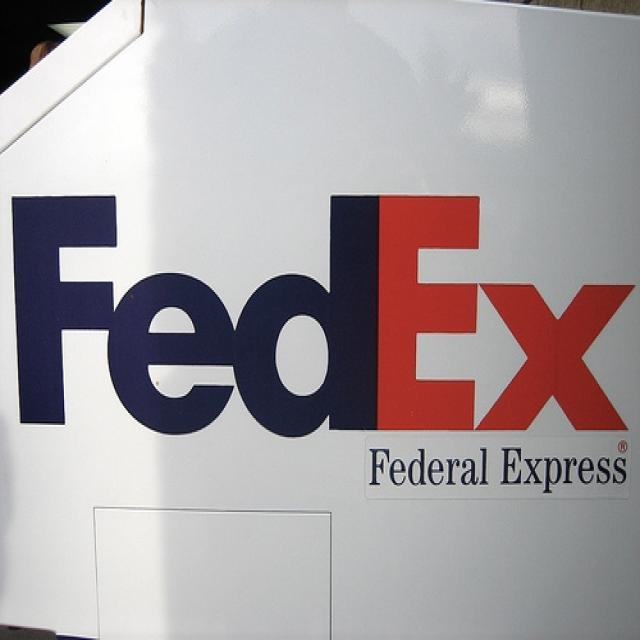fedex: (2, 184, 640, 445)
